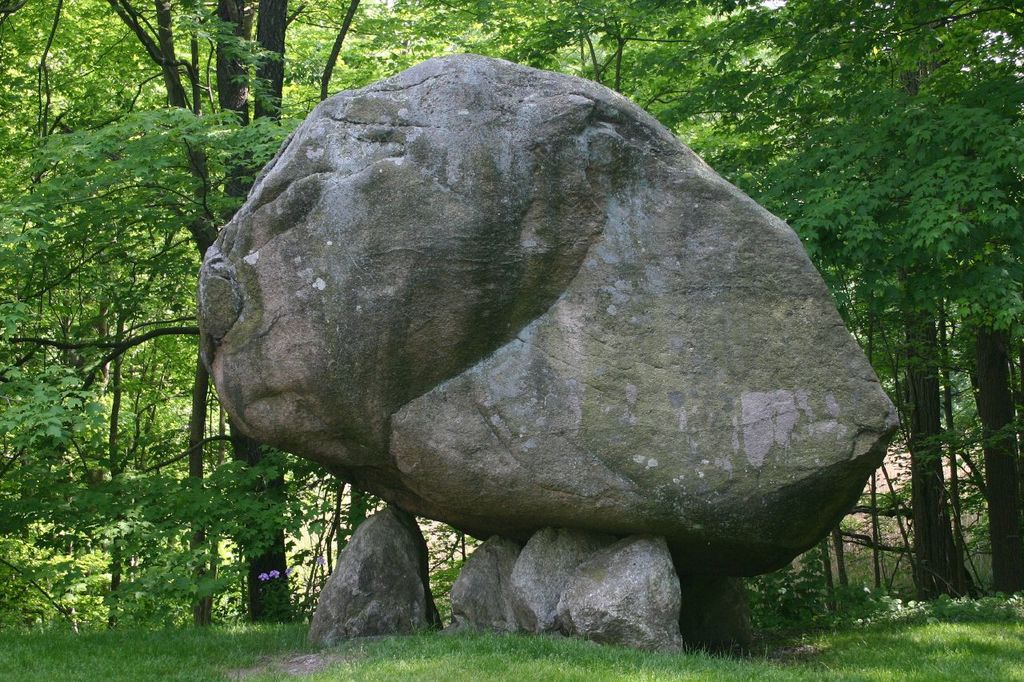Tree: (0, 0, 1024, 626)
